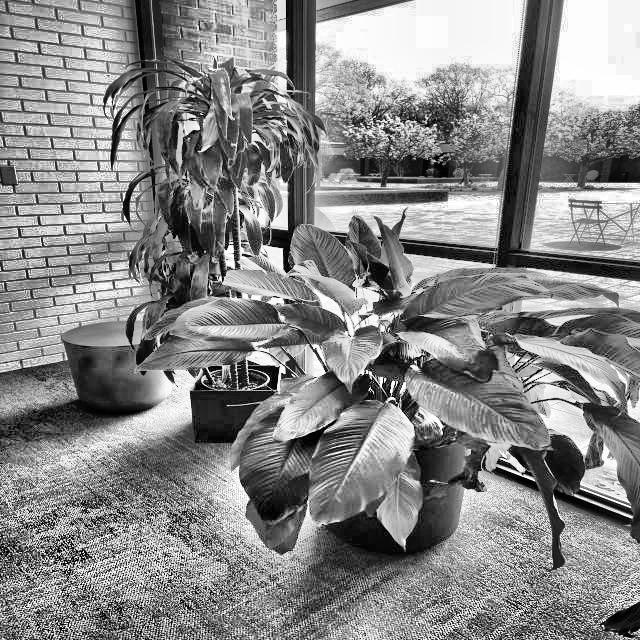plants: (250, 231, 560, 573), (148, 49, 276, 440)
